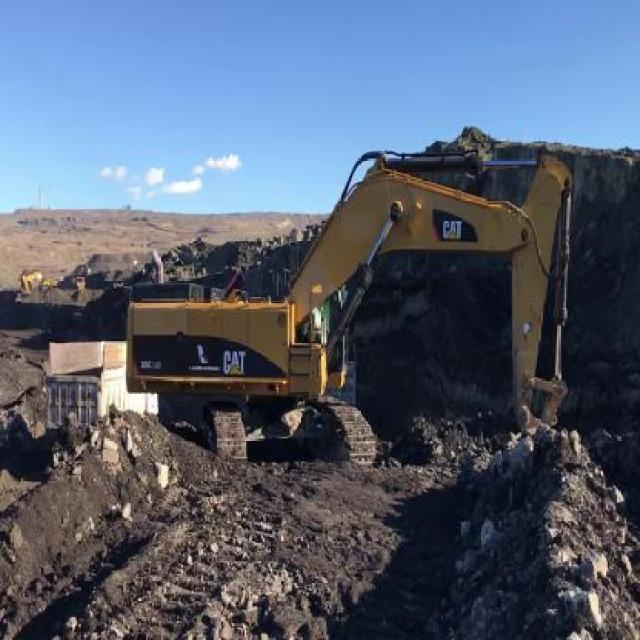dump_truck: (42, 335, 158, 437)
excavator: (121, 145, 576, 527)
